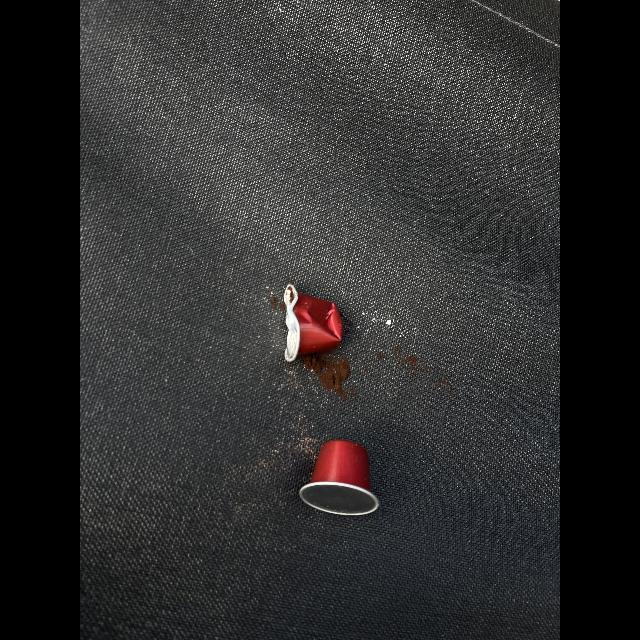damaged_capsule: (270, 278, 356, 374)
intact_capsule: (292, 427, 392, 523)
